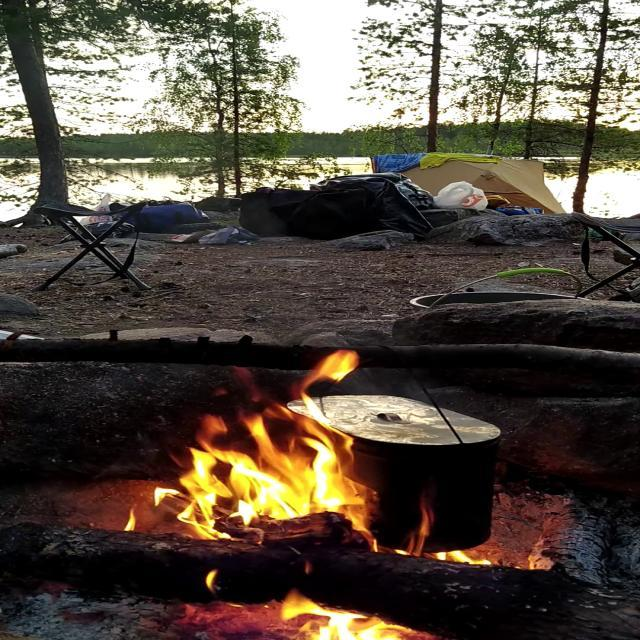Fire: (126, 350, 382, 540), (266, 590, 424, 640), (428, 544, 500, 568)
